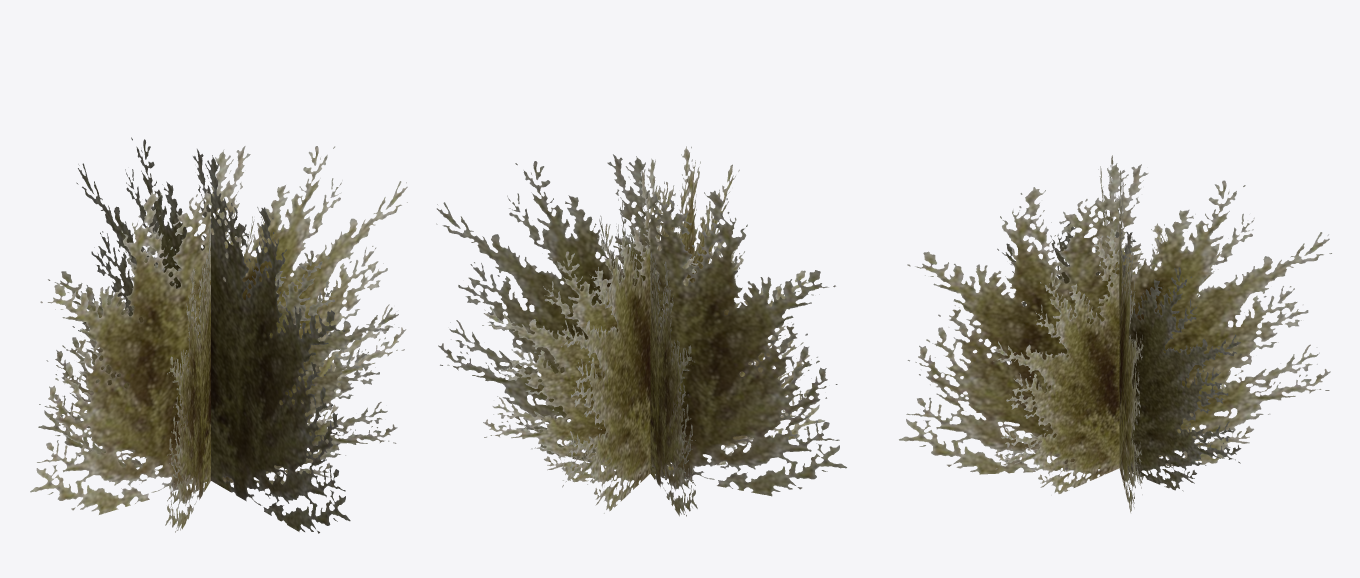
File: bush_test.glb
The picture shows the model from 3 angles, left to right: view 1: azimuth 30°, elevation 25°; view 2: azimuth 150°, elevation 25°; view 3: azimuth 270°, elevation 25°; orthographic projection. The views are drawn at different scales.
Visible parts, largest first — view 1: Object_2; view 2: Object_2; view 3: Object_2.
Part boxes in pixels (bbox=[...]): Object_2: bbox=[30, 137, 407, 533]; Object_2: bbox=[436, 146, 846, 516]; Object_2: bbox=[899, 155, 1331, 512].
Bounding box in the file's own units: 1 × 0.8774 × 1.
Materials: 1 (1 with a texture image).
